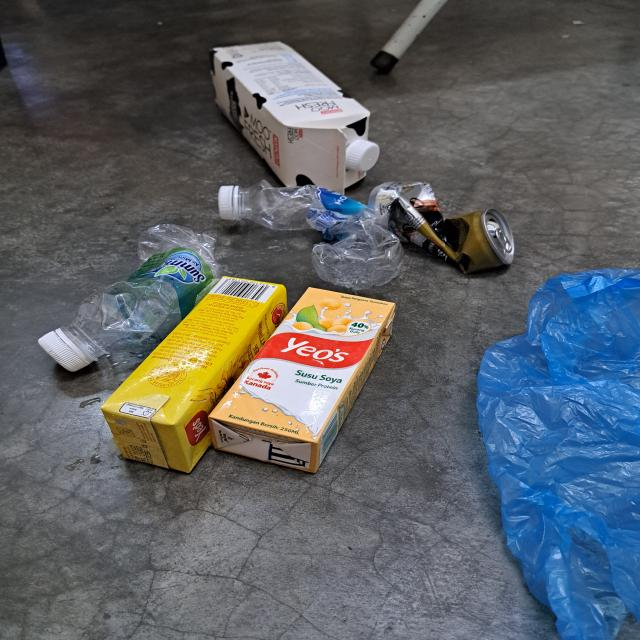can: (370, 179, 517, 273)
drink carton: (103, 274, 285, 474), (210, 287, 395, 474), (212, 41, 379, 188)
plastic bag: (476, 267, 640, 639)
plastic bottle: (39, 224, 224, 370), (219, 182, 403, 284)
plastic bottle cap: (40, 325, 94, 370), (346, 135, 380, 172), (220, 182, 244, 222)
pop tab: (488, 217, 518, 256)
